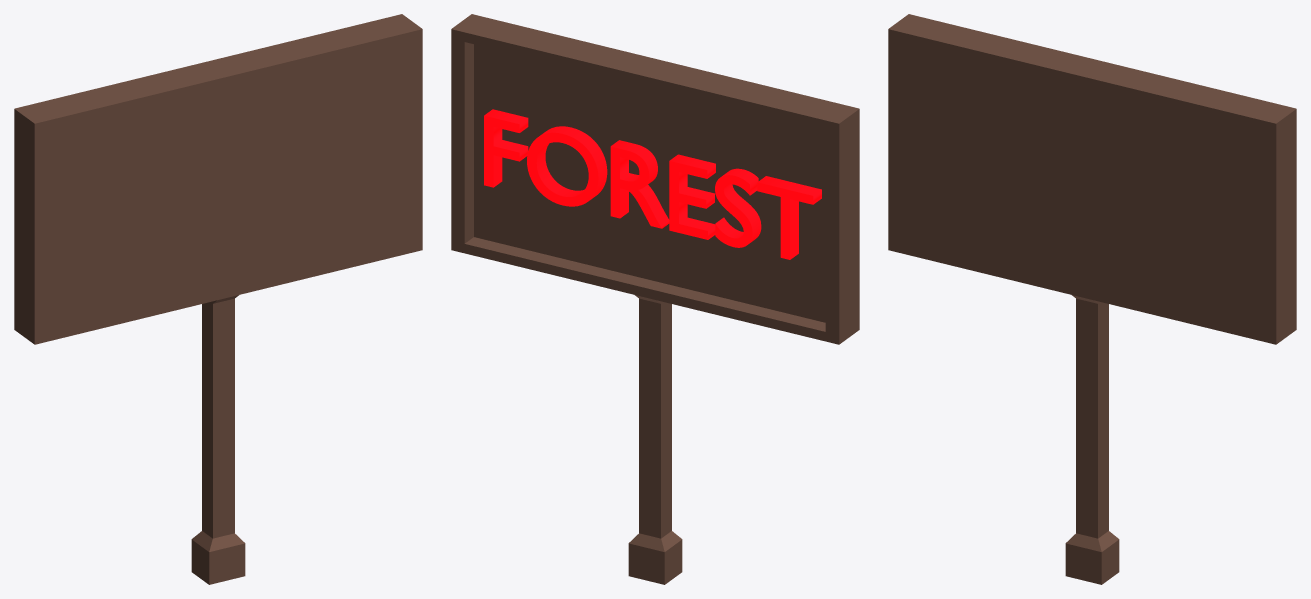
The model's file is ForestSign_A.fbx.
3 renders of one model, left to right at view 1: azimuth 30°, elevation 25°; view 2: azimuth 150°, elevation 25°; view 3: azimuth 330°, elevation 25°, orthographic.
Visible parts, largest first — view 1: Cube.054; view 2: Cube.054; view 3: Cube.054.
Part boxes in pixels (bbox=[...]): Cube.054: bbox=[14, 14, 422, 584]; Cube.054: bbox=[451, 14, 859, 584]; Cube.054: bbox=[888, 14, 1296, 584].
Size of the model in its own units: 365 by 454 by 33.65.
